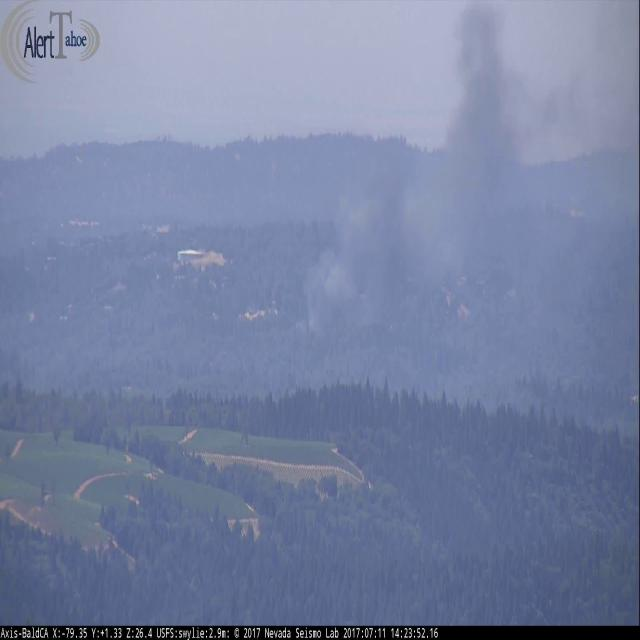smoke: (286, 0, 610, 351)
